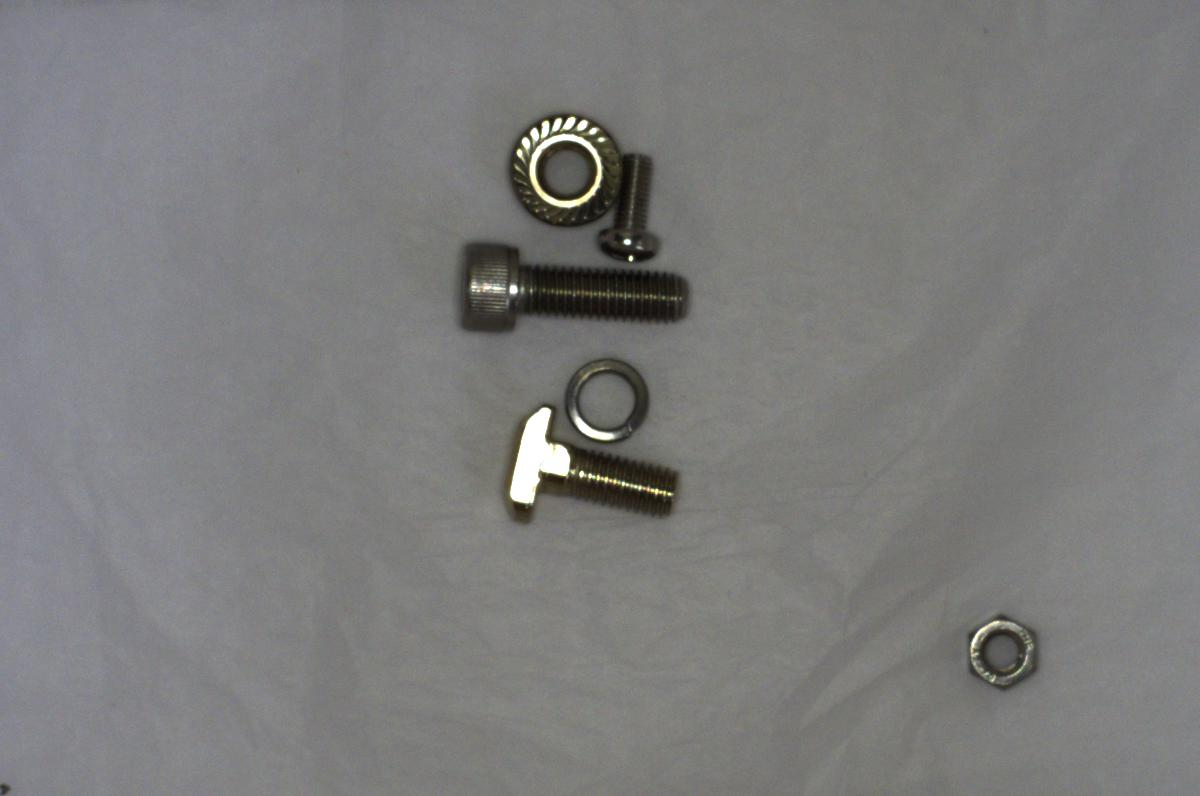Flange nut: (506, 105, 617, 233)
Hexagon nut: (953, 600, 1047, 700)
Hexagon screw: (451, 232, 702, 348)
Round head screw: (589, 145, 667, 271)
Spring washer: (560, 351, 658, 449)
T-shaped screw: (479, 398, 697, 531)
